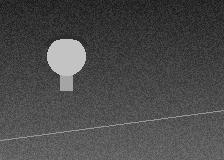no_helmet: (47, 35, 85, 80)
